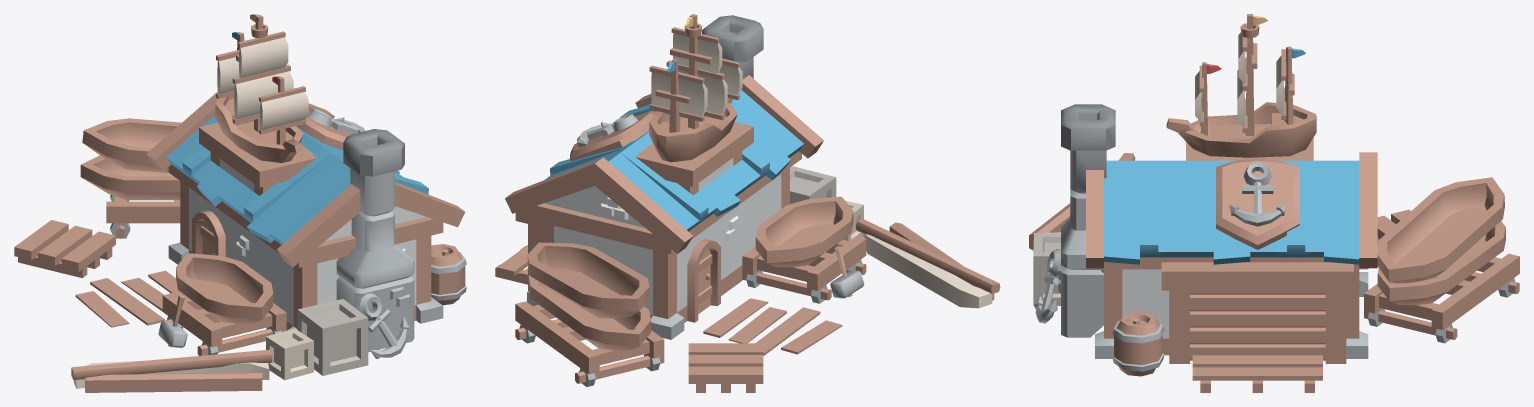
Rendered from shipyard_part.glb.
The picture shows the model from 3 angles, left to right: view 1: azimuth 30°, elevation 25°; view 2: azimuth 150°, elevation 25°; view 3: azimuth 270°, elevation 25°; orthographic projection. The views are drawn at different scales.
Visible parts, largest first — view 1: X_building_shipyard_blue; view 2: X_building_shipyard_blue; view 3: X_building_shipyard_blue.
Boxes of the visible parts, <box> form: X_building_shipyard_blue: <box>14,14,466,392</box>; X_building_shipyard_blue: <box>495,14,1000,392</box>; X_building_shipyard_blue: <box>1029,14,1519,392</box>.
Size of the model in its own units: 1.92 by 1.24 by 1.88.
